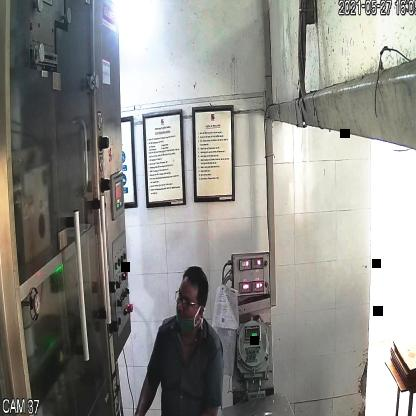goggles: (172, 286, 202, 313)
